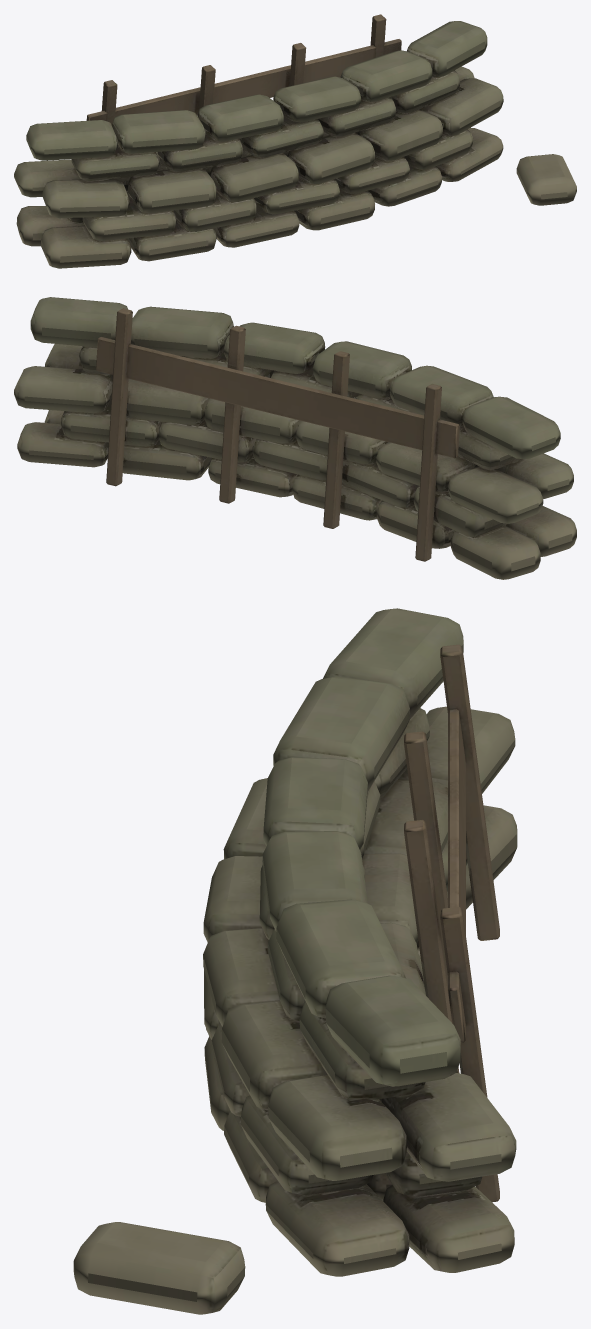
Rendered from hs_sandbag_wall_lod0.glb.
3 renders of one model, top to bottom at view 1: azimuth 30°, elevation 25°; view 2: azimuth 150°, elevation 25°; view 3: azimuth 270°, elevation 25°, orthographic. The views are drawn at different scales.
Bounding box in the file's own units: 4.03 × 1.17 × 1.6.
Materials: 1 (1 with a texture image).
